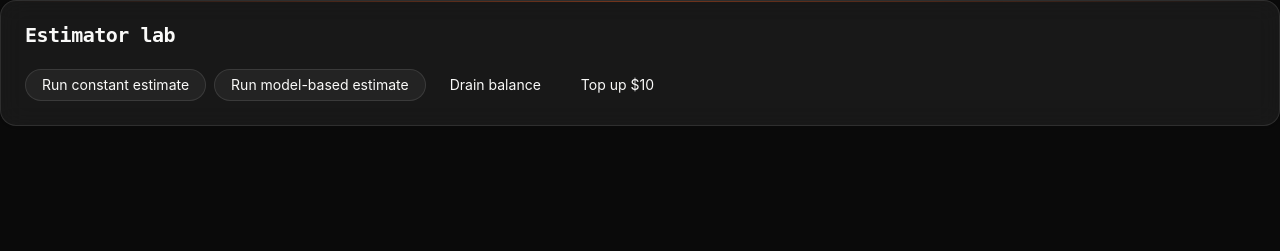
Test case: LabRunner › drains and renders the canonical AI_TOKENS_INSUFFICIENT_CREDITS wall
The image size is (1280, 251).
Click the button "Drain balance" at [495, 85], box [434,69,557,101]
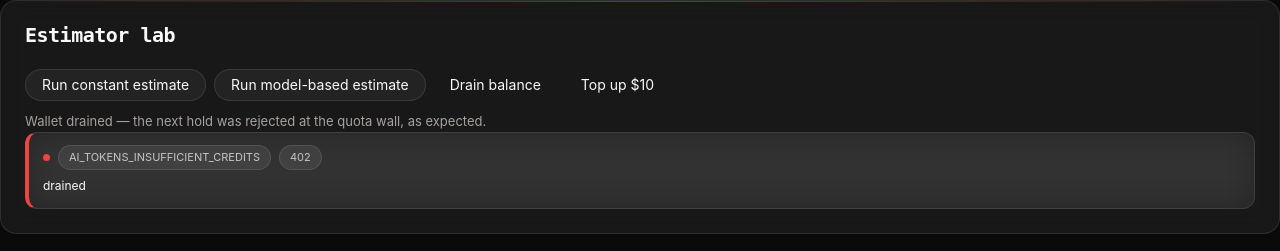
Now the text "rejected at the quota wall, as expected." is shown, box [25,113,486,129]
Now the message shows "drained", box [43,178,86,193]
